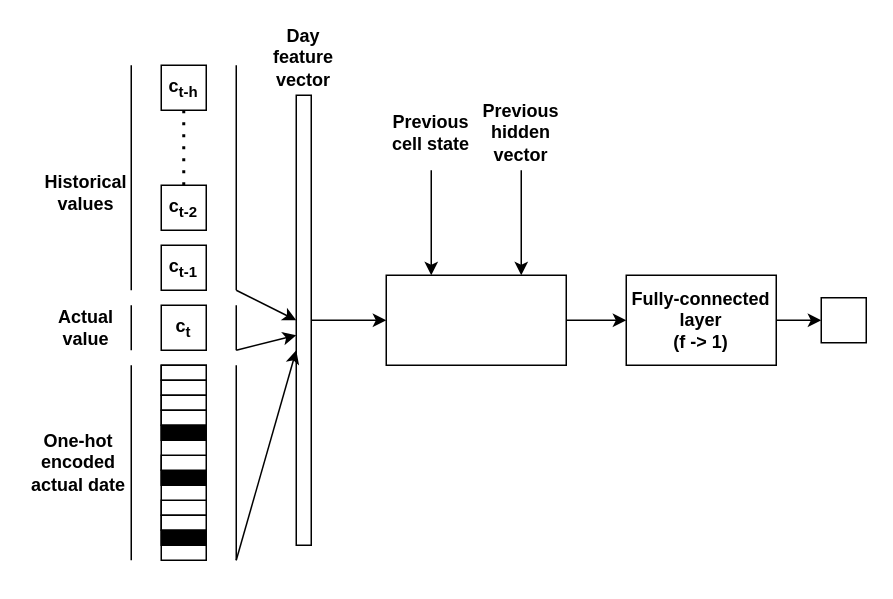
Image size: 893x599. Some labels were removed from this diagram. Here are the shapes that lost their labels. From the top down, the centre of each, then its label:
At point 475,319: "LSTM / RNN (2 layers) (h+1+22 -> f)".
At point 843,319: "c t+1".
